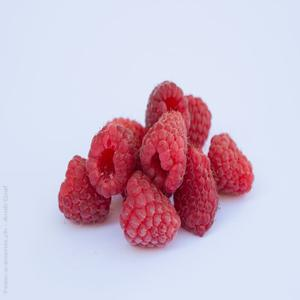raspb: (33, 66, 267, 253)
